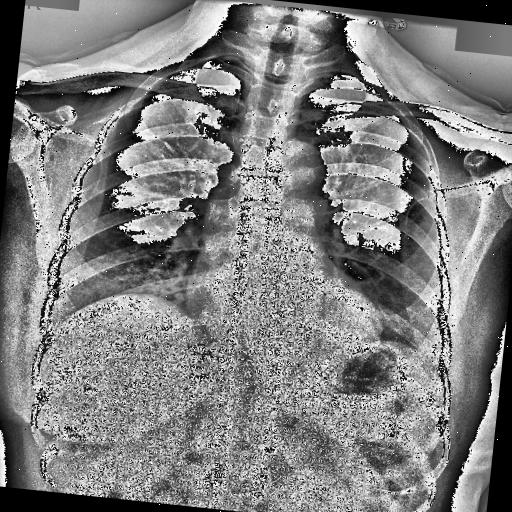0- Aortic enlargement: (266, 139, 333, 216), (258, 135, 334, 200), (262, 138, 327, 194)
3- Cardiomegaly: (178, 278, 386, 368), (180, 288, 386, 358)
